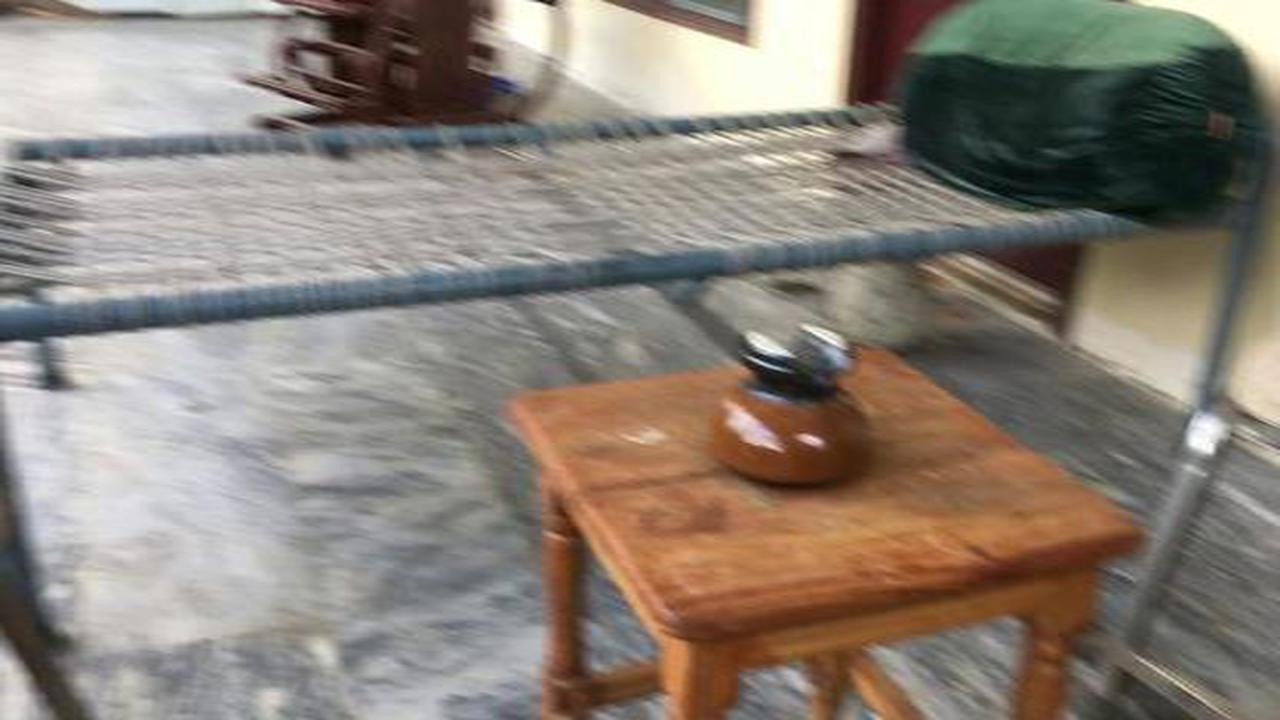insulator_pin: (693, 305, 890, 502)
